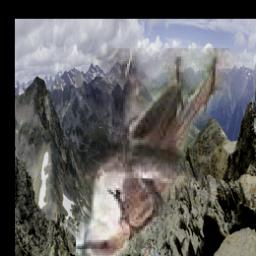Cuckoo: (76, 48, 239, 256)
